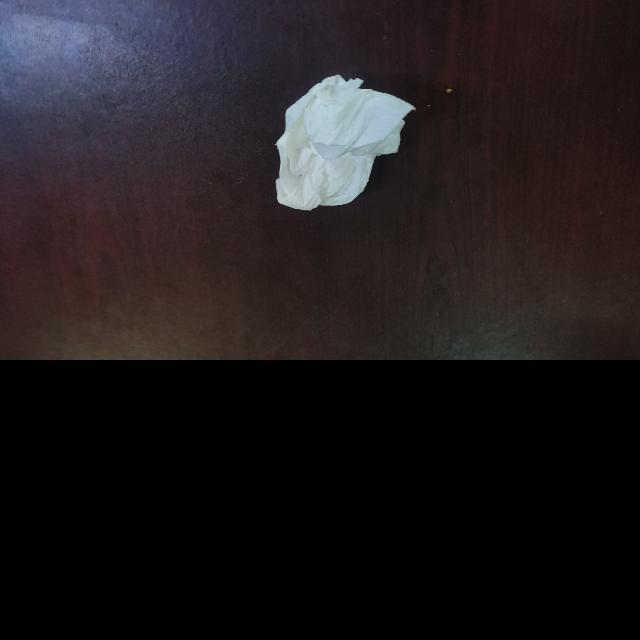kitchen paper: (271, 68, 419, 218)
